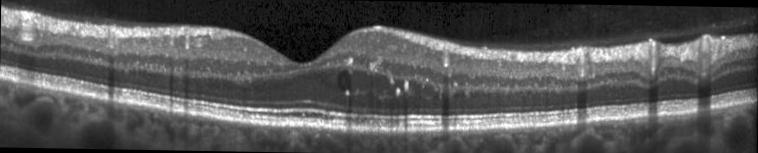intraretinal_cyst: (337, 69, 351, 90)
vitreomacular_traction: (436, 17, 752, 47), (3, 0, 170, 26)
